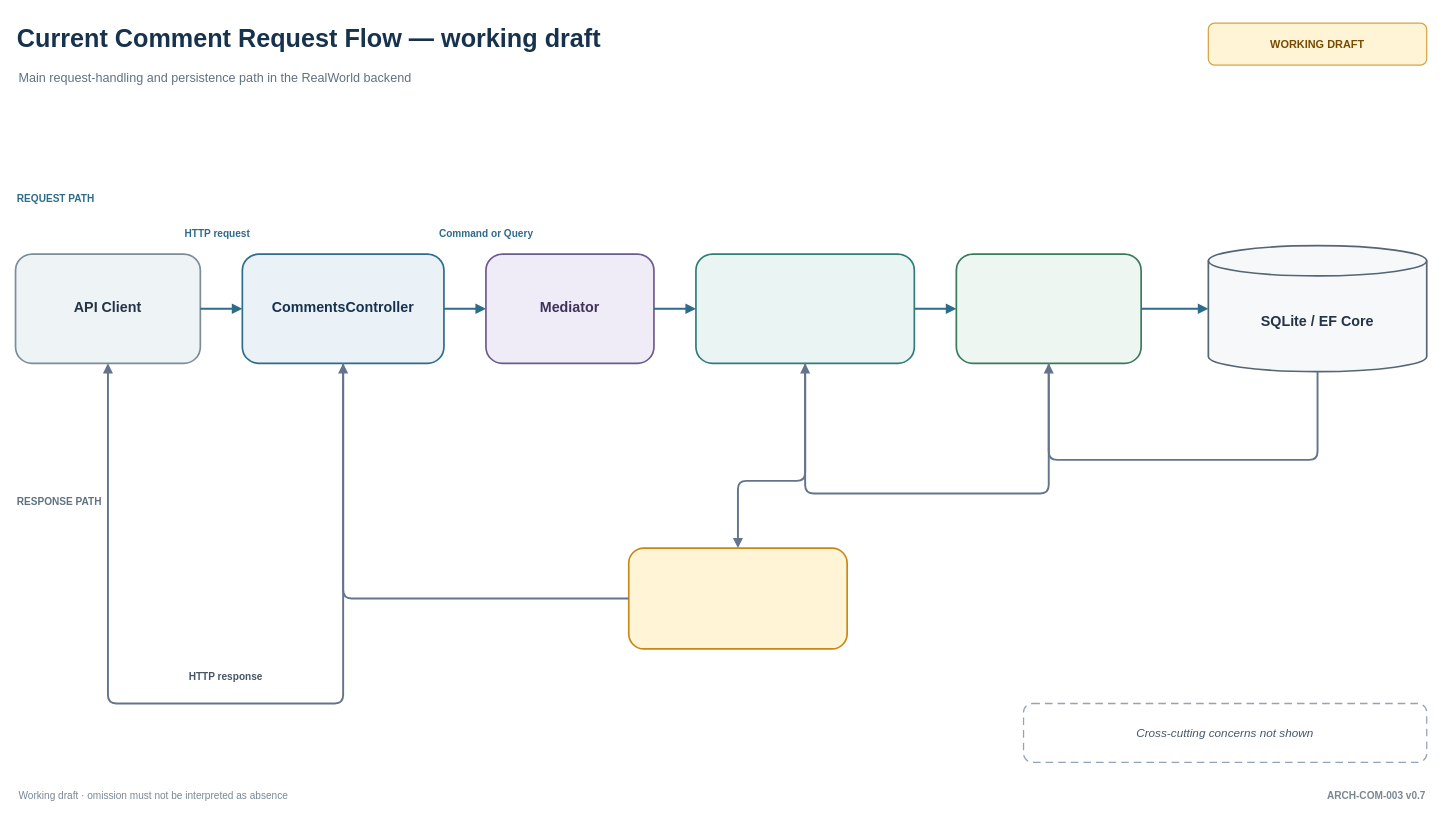
This 1441x822 diagram has some shape labels left out. The centre of each missing label's shape, as x and y in pixels:
"Comment Envelope" belongs at (x=737, y=598).
"Comment Feature Handler" belongs at (x=805, y=308).
"ConduitContext" belongs at (x=1048, y=308).
